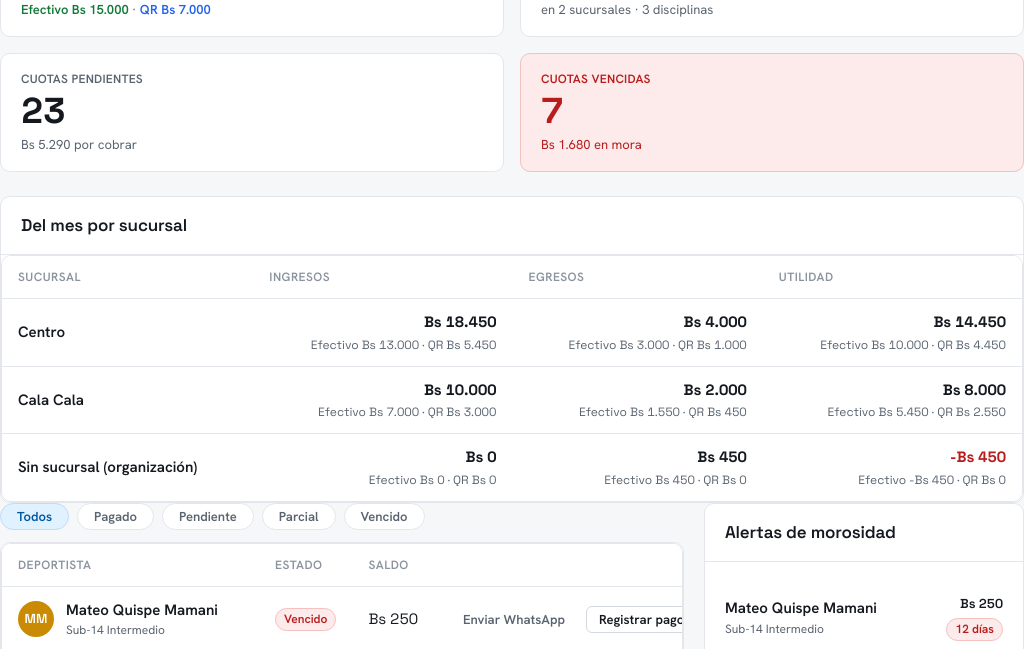
Scenario: PanelCobranza › refleja motivo "sin_telefono" como advertencia
(page scrolled)
Click the button "Enviar WhatsApp" in the row of "MM" at (514, 619), box [450, 606, 578, 632]
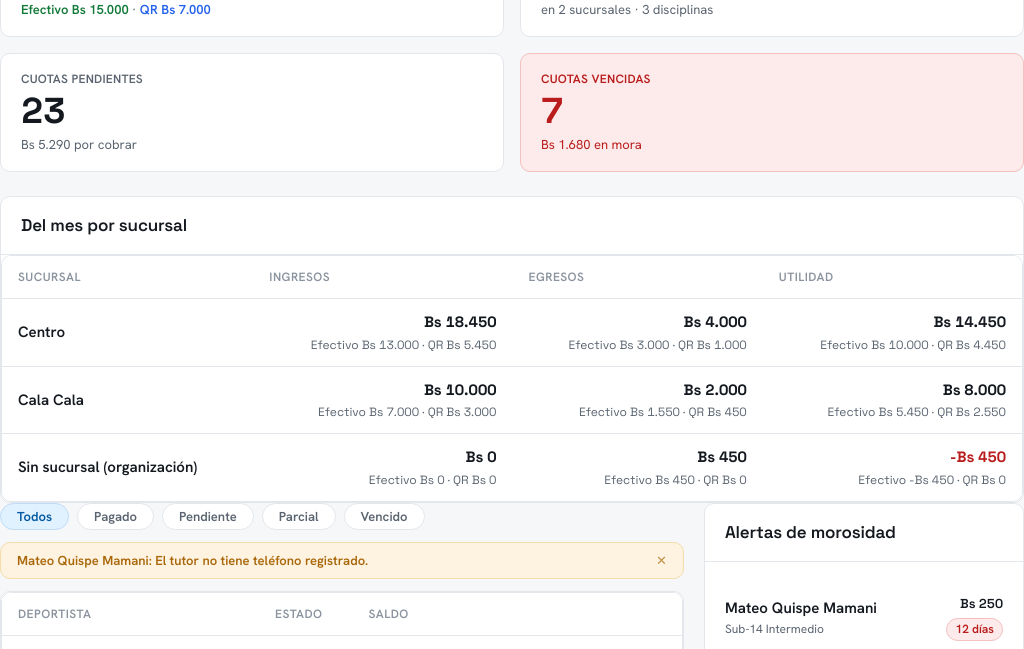
expect the text "Mateo Quispe Mamani: El tutor no tiene teléfono registrado." is shown: met, box [17, 551, 368, 570]
